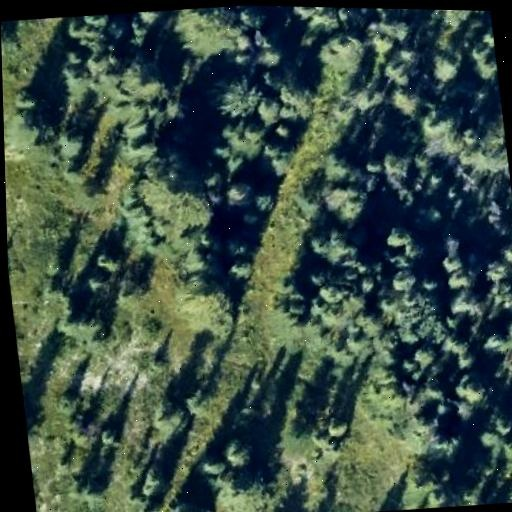tree-top: (134, 162, 213, 236), (166, 4, 252, 65), (174, 272, 242, 333), (313, 26, 371, 84), (209, 465, 280, 512), (210, 68, 266, 123), (214, 112, 271, 166), (58, 47, 112, 100), (318, 174, 370, 227), (302, 219, 357, 268), (375, 41, 425, 94), (118, 51, 167, 102), (57, 300, 107, 345), (9, 98, 56, 144), (148, 393, 192, 441), (305, 273, 352, 314), (385, 78, 426, 121), (452, 370, 495, 411), (427, 44, 469, 85), (442, 281, 486, 319), (65, 13, 118, 44), (318, 146, 359, 186), (49, 382, 88, 424), (66, 469, 107, 508), (275, 67, 311, 111), (377, 218, 418, 256), (412, 479, 462, 510), (463, 39, 499, 82), (51, 120, 89, 160), (118, 130, 161, 165), (221, 174, 260, 211), (474, 134, 509, 175), (222, 434, 260, 471), (248, 89, 285, 127), (491, 423, 512, 488), (379, 144, 414, 182), (423, 424, 459, 460), (420, 107, 457, 142), (165, 484, 209, 512), (478, 255, 512, 290), (93, 244, 128, 276), (385, 265, 420, 296), (319, 410, 351, 441), (484, 408, 512, 443), (24, 405, 43, 456), (450, 341, 480, 372), (410, 342, 440, 372), (1, 20, 22, 61), (439, 230, 466, 261), (442, 10, 491, 26), (94, 423, 123, 450), (133, 9, 170, 28), (494, 237, 512, 272), (500, 279, 512, 319), (500, 317, 512, 351), (502, 179, 512, 218), (508, 483, 512, 503), (511, 353, 512, 388)
